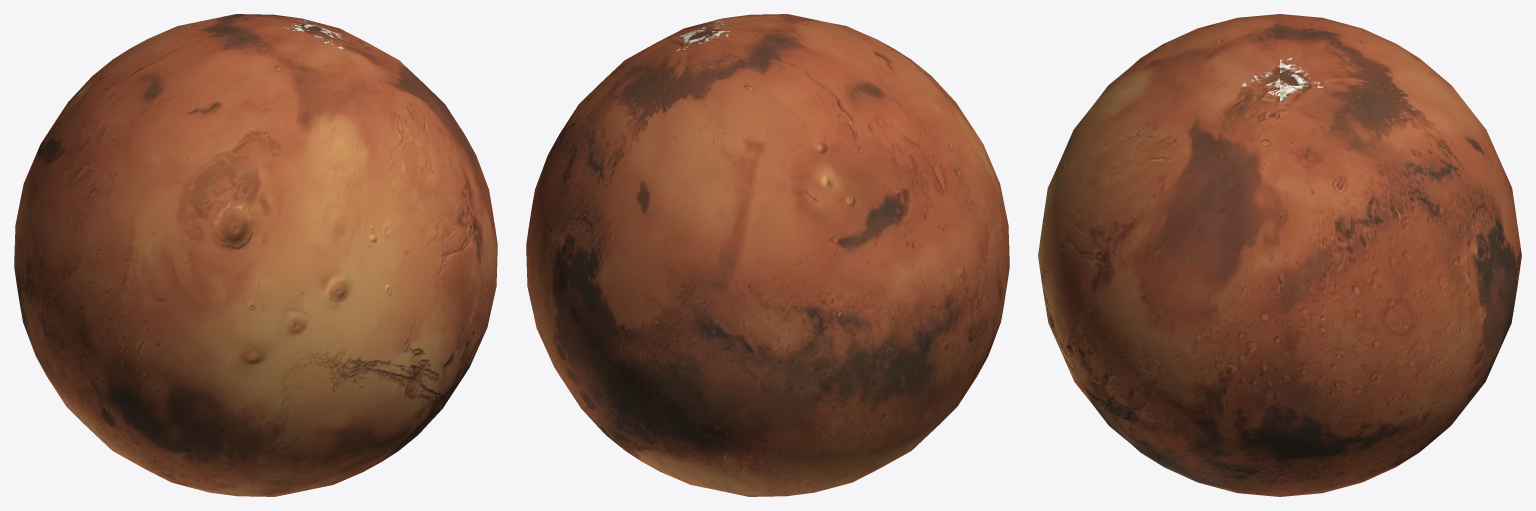
3 renders of one model, left to right at view 1: azimuth 30°, elevation 25°; view 2: azimuth 150°, elevation 25°; view 3: azimuth 270°, elevation 25°, orthographic.
Visible parts, largest first — view 1: Mars; view 2: Mars; view 3: Mars.
Part boxes in pixels (x1,y1,x2,y2): Mars: (14,14,497,496); Mars: (526,14,1009,496); Mars: (1038,14,1521,496).
Bounding box in the file's own units: 2.95 × 2.94 × 2.96.
1 material, 1 textured.
